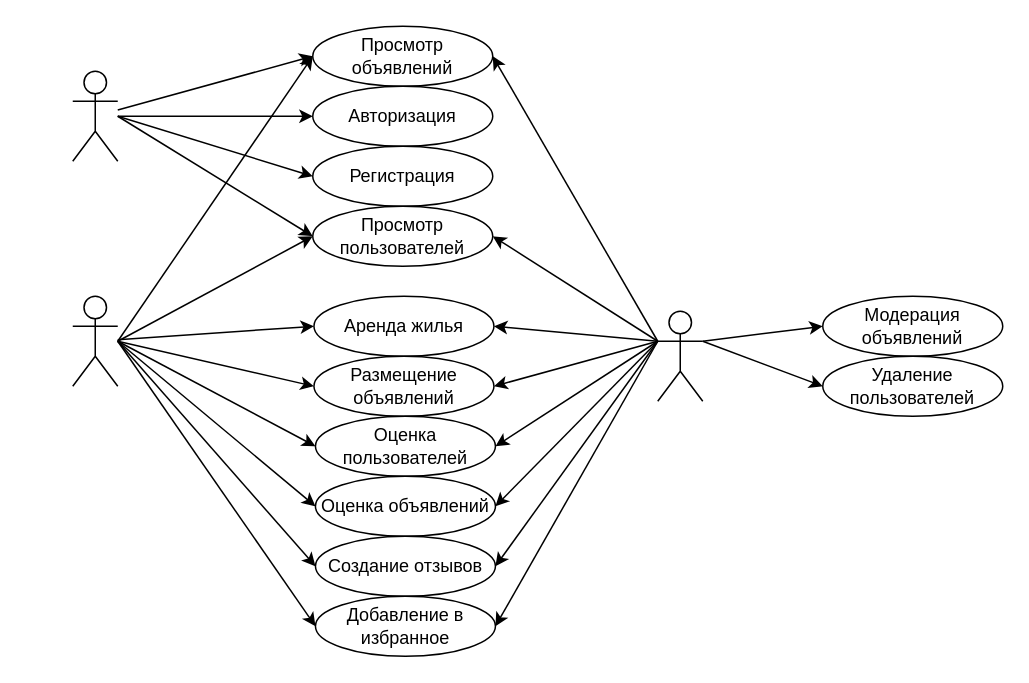
The diagram is 1029 pixels wide and 683 high, and some of its shapes have lost their labels. Here are the shapes that lost their labels. From the top down, the centre of each, then its label:
At (94,115): "Гость".
At (94,340): "Авторизованный пользователь".
At (679,355): "Администратор".
